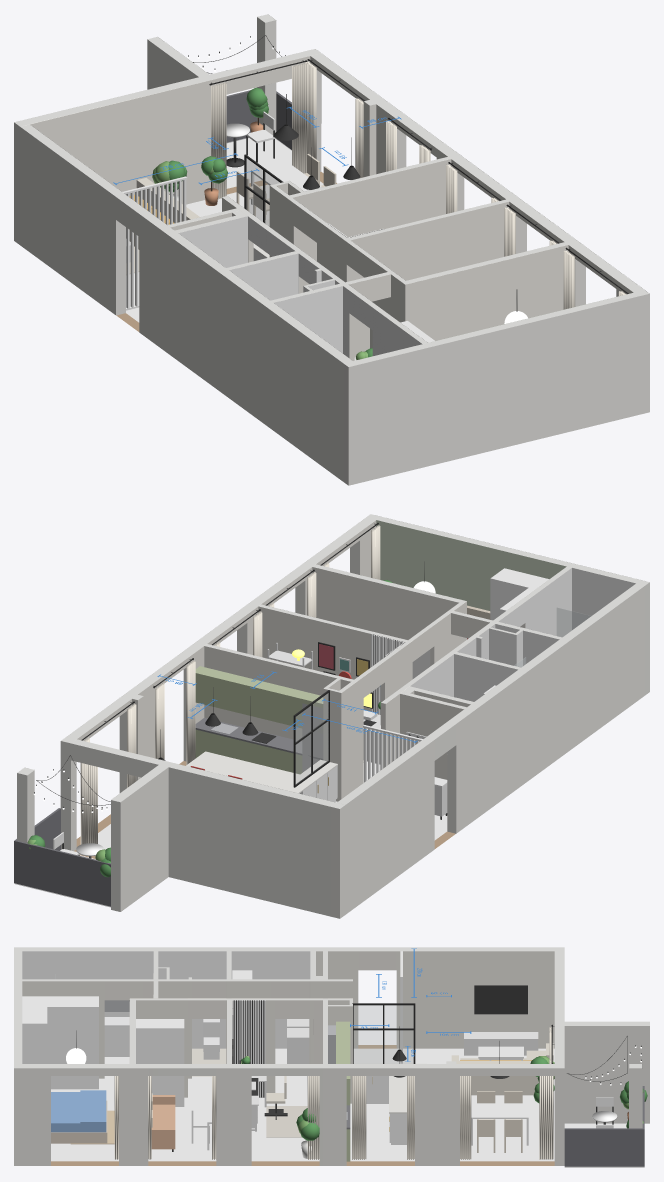
Rendered from opcion-peninsula.glb.
3 views of the same model, one above another, from view 1: azimuth 30°, elevation 25°; view 2: azimuth 150°, elevation 25°; view 3: azimuth 270°, elevation 25° (orthographic). The views are drawn at different scales.
Visible parts, largest first — view 1: Pintura_paredes, Muros, Dinteles_antepechos, Cortina_terraza, Separador_entrada, Peninsula_cerramiento, Suelo_terraza_baldosa, Cortina_salon, Barandilla_terraza, Suelo_tarima, Mesa_comedor, Sofa_L (+4 smaller); view 2: Pintura_paredes, Muros, Cocina, Peninsula_cerramiento, Barandilla_terraza, Dinteles_antepechos, Cortina_cocina, Armario_L_principal, Separador_entrada, Cortina_terraza, Cortina_salon, Estudio_cuadros (+3 smaller); view 3: Pintura_paredes, Suelo_tarima, Muros, Armario_L_principal, Peninsula_cerramiento, Barandilla_terraza, Dinteles_antepechos, Cama_principal, Armario_dorm2, Mueble_TV, Cortina_salon, Estudio_listones_madera (+22 smaller).
Boxes of the visible parts, left/top/right/bottom form: Pintura_paredes: left=14, top=17, right=649, bottom=485; Muros: left=14, top=14, right=649, bottom=367; Dinteles_antepechos: left=116, top=51, right=626, bottom=307; Cortina_terraza: left=211, top=63, right=307, bottom=199; Separador_entrada: left=122, top=176, right=187, bottom=310; Peninsula_cerramiento: left=244, top=154, right=283, bottom=260; Suelo_terraza_baldosa: left=226, top=138, right=291, bottom=188; Cortina_salon: left=305, top=62, right=363, bottom=178; Barandilla_terraza: left=226, top=90, right=291, bottom=149; Suelo_tarima: left=126, top=181, right=356, bottom=360; Mesa_comedor: left=251, top=161, right=321, bottom=204; Sofa_L: left=126, top=177, right=199, bottom=249; Pintura_paredes: left=17, top=519, right=649, bottom=918; Muros: left=17, top=514, right=649, bottom=808; Cocina: left=195, top=666, right=323, bottom=774; Peninsula_cerramiento: left=186, top=690, right=337, bottom=801; Barandilla_terraza: left=14, top=808, right=110, bottom=906; Dinteles_antepechos: left=67, top=529, right=524, bottom=764; Cortina_cocina: left=155, top=660, right=195, bottom=764; Armario_L_principal: left=490, top=568, right=548, bottom=626; Separador_entrada: left=363, top=725, right=423, bottom=782; Cortina_terraza: left=84, top=763, right=97, bottom=843; Cortina_salon: left=80, top=703, right=136, bottom=844; Estudio_cuadros: left=318, top=642, right=380, bottom=687; Pintura_paredes: left=14, top=951, right=649, bottom=1165; Suelo_tarima: left=51, top=1048, right=554, bottom=1161; Muros: left=14, top=947, right=649, bottom=1068; Armario_L_principal: left=22, top=996, right=98, bottom=1089; Peninsula_cerramiento: left=352, top=1003, right=426, bottom=1144; Barandilla_terraza: left=564, top=1086, right=644, bottom=1166; Dinteles_antepechos: left=51, top=947, right=564, bottom=1068; Cama_principal: left=51, top=1090, right=107, bottom=1143; Armario_dorm2: left=136, top=1019, right=184, bottom=1106; Mueble_TV: left=464, top=985, right=538, bottom=1055; Cortina_salon: left=460, top=1076, right=553, bottom=1159; Estudio_listones_madera: left=232, top=1000, right=265, bottom=1097.
Bounding box in the file's own units: 6.97 × 2.7 × 15.38.
